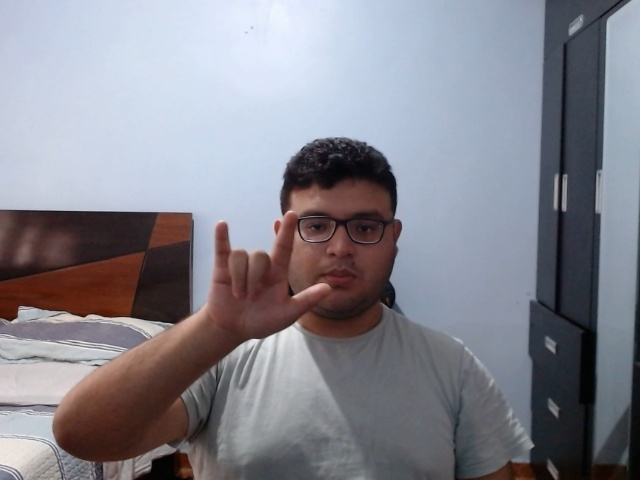I love you: (199, 207, 331, 348)
